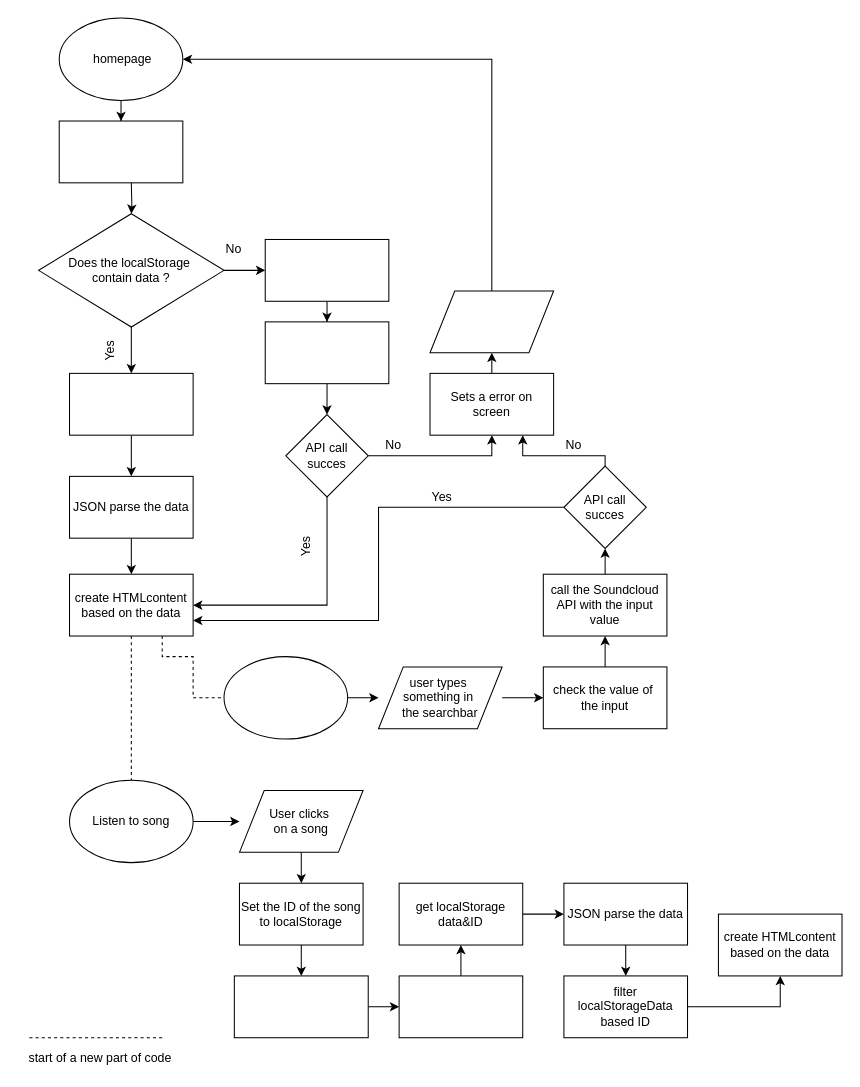
This 860x1087 diagram has some shape labels left out. Each missing label, with the box of its shape:
Add a spinner: (264, 238, 389, 301)
call the Soundcloud API: (264, 321, 389, 384)
check localStorage for data: (58, 120, 183, 183)
get localStorage data: (68, 372, 193, 435)
navigate to #player/name_of_song: (233, 975, 368, 1038)
toggle the section from home to player: (398, 975, 523, 1038)
user clicks OK: (429, 290, 554, 353)
User search: (223, 656, 348, 739)
